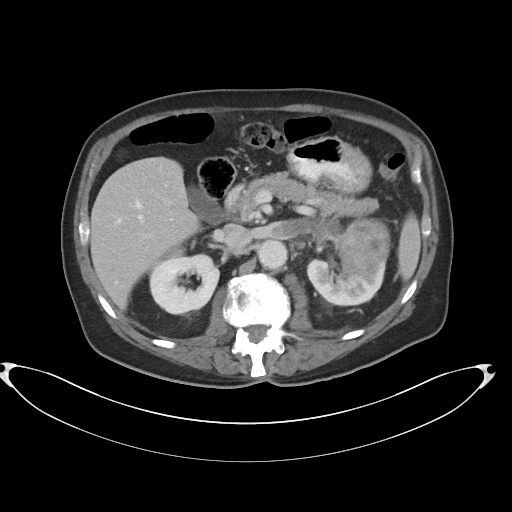Lesion: (340, 213, 392, 290)
